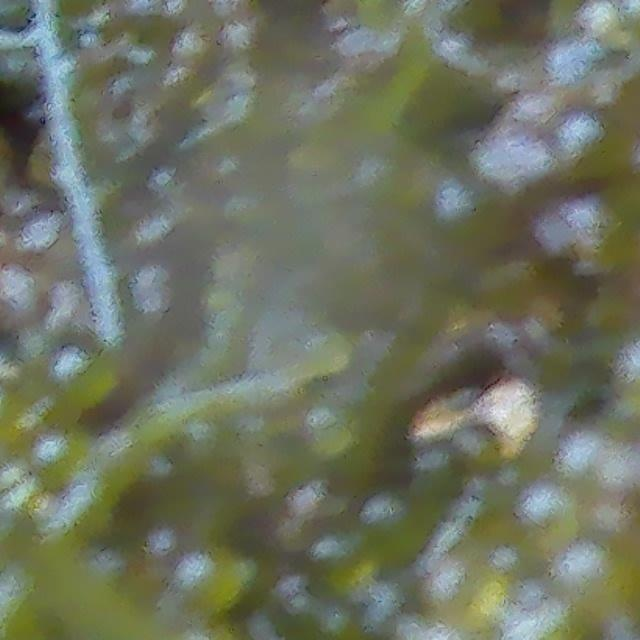SeaGrape: (190, 546, 257, 616), (564, 551, 629, 613), (527, 483, 588, 548)
